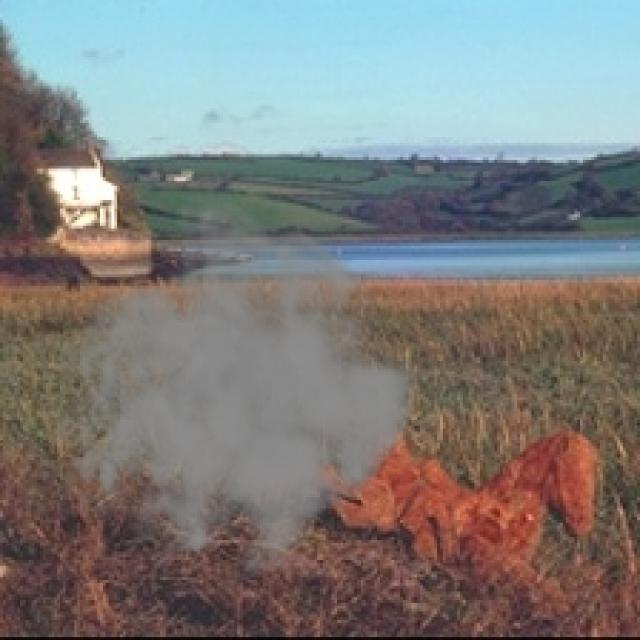smoke: (51, 189, 423, 594)
